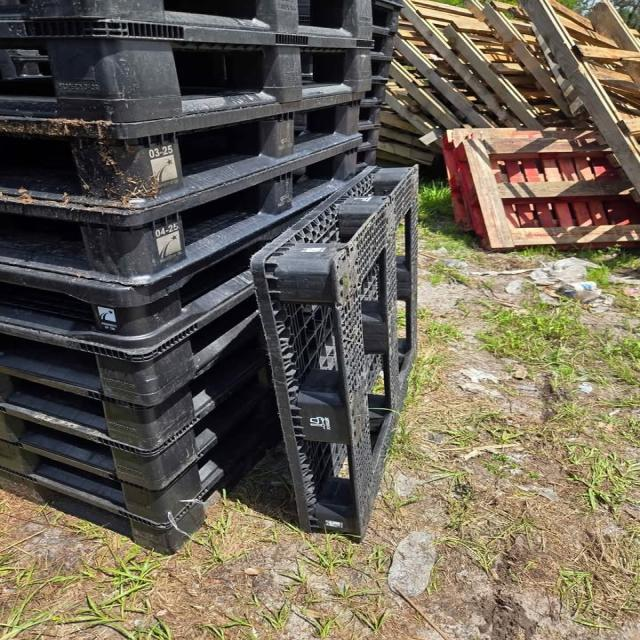non-igps: (245, 161, 452, 546), (0, 184, 352, 367), (0, 133, 372, 292), (0, 82, 373, 218), (0, 391, 311, 536), (372, 0, 638, 169), (0, 418, 303, 560), (0, 352, 289, 497), (0, 324, 297, 463), (0, 31, 380, 132), (0, 277, 274, 412), (432, 119, 640, 257), (0, 0, 384, 53)
